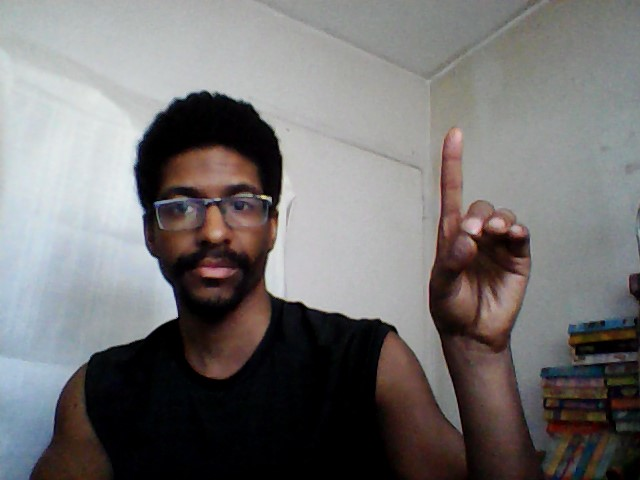d: (423, 121, 536, 351)
